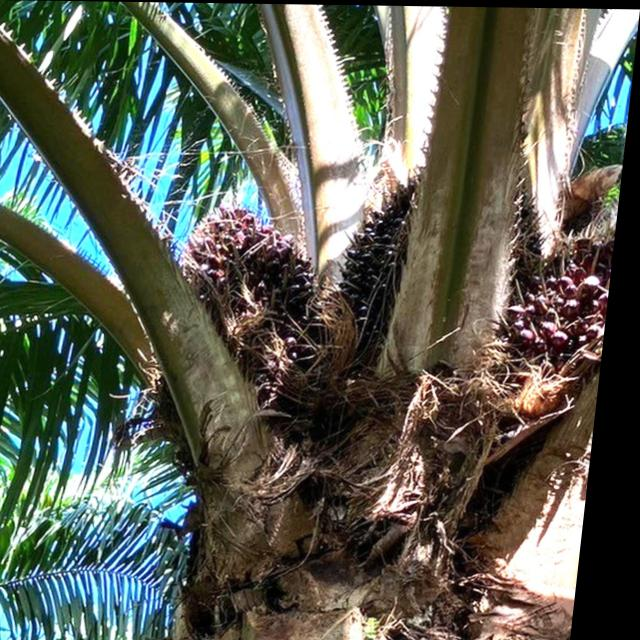ripe: (180, 206, 325, 372)
